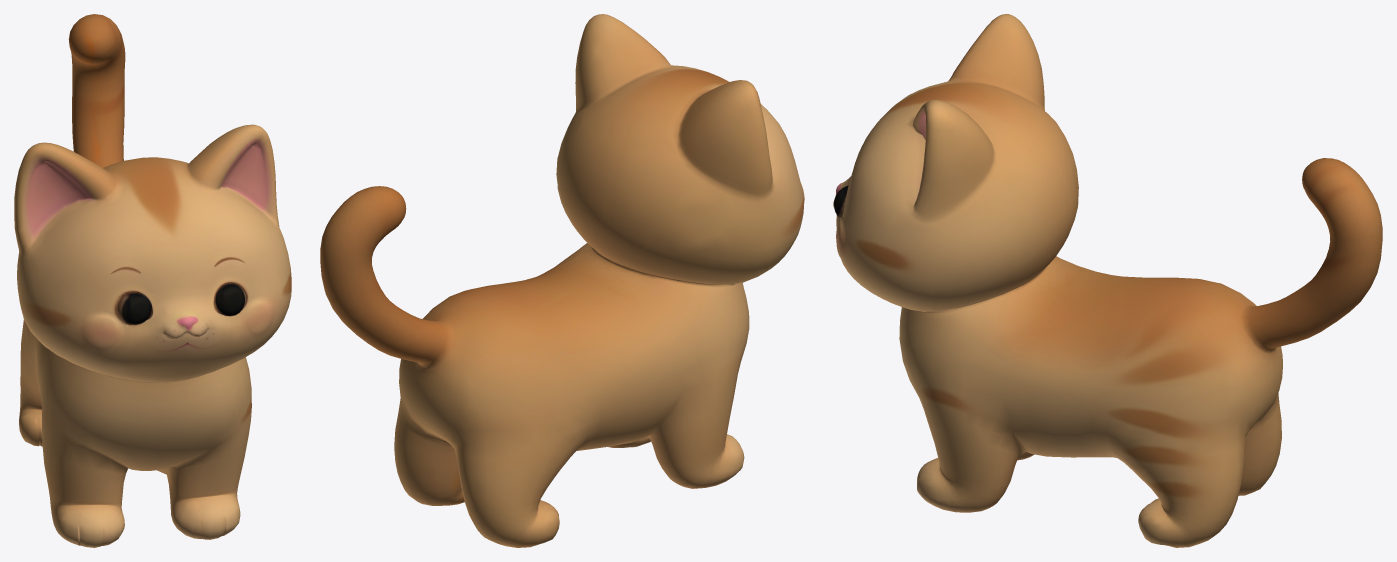
Rendered from tripo_convert_d1f6438b-062b-444d-b06a-c3fe98023b59.fbx.
3 renders of one model, left to right at view 1: azimuth 30°, elevation 25°; view 2: azimuth 150°, elevation 25°; view 3: azimuth 270°, elevation 25°, orthographic. The views are drawn at different scales.
Visible parts, largest first — view 1: tripo_node_d1f6438b; view 2: tripo_node_d1f6438b; view 3: tripo_node_d1f6438b.
Boxes of the visible parts, bbox=[...] form: tripo_node_d1f6438b: bbox=[14, 14, 291, 547]; tripo_node_d1f6438b: bbox=[320, 14, 804, 547]; tripo_node_d1f6438b: bbox=[833, 14, 1382, 547].
Bounding box in the file's own units: 0.6006 × 0.8354 × 0.9995.
1 material, 1 textured.
